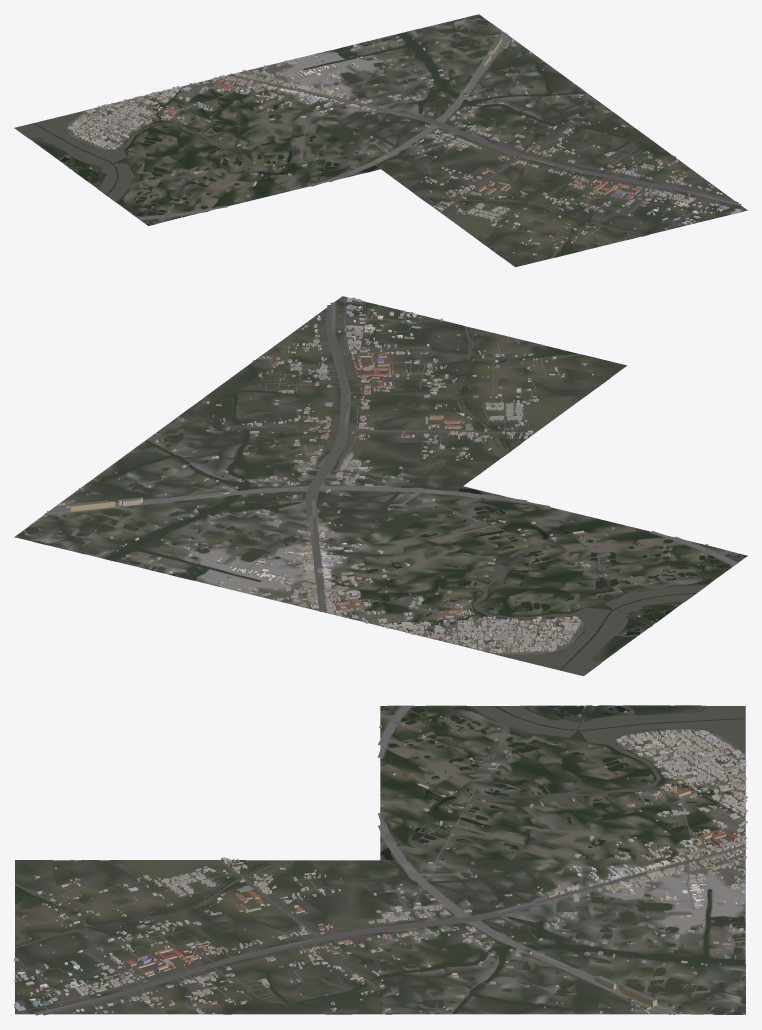
3 views of the same model, one above another, from view 1: azimuth 30°, elevation 25°; view 2: azimuth 150°, elevation 25°; view 3: azimuth 270°, elevation 25° (orthographic). The views are drawn at different scales.
Parts seen in each view (by area): view 1: ground, buildings, water, roads; view 2: ground, buildings, water, roads; view 3: ground, buildings, water, roads.
Boxes of the visible parts, x1=… form: ground: x1=14, y1=14, x2=747, y2=267; buildings: x1=67, y1=29, x2=741, y2=255; water: x1=14, y1=15, x2=736, y2=258; roads: x1=66, y1=32, x2=746, y2=257; ground: x1=14, y1=296, x2=747, y2=675; buildings: x1=45, y1=297, x2=708, y2=653; water: x1=16, y1=302, x2=747, y2=675; roads: x1=45, y1=296, x2=738, y2=653; ground: x1=15, y1=705, x2=745, y2=1014; buildings: x1=14, y1=705, x2=747, y2=1014; water: x1=15, y1=705, x2=745, y2=1014; roads: x1=15, y1=705, x2=746, y2=1015.
Size of the model in its own units: 2816 by 30.08 by 2813.
